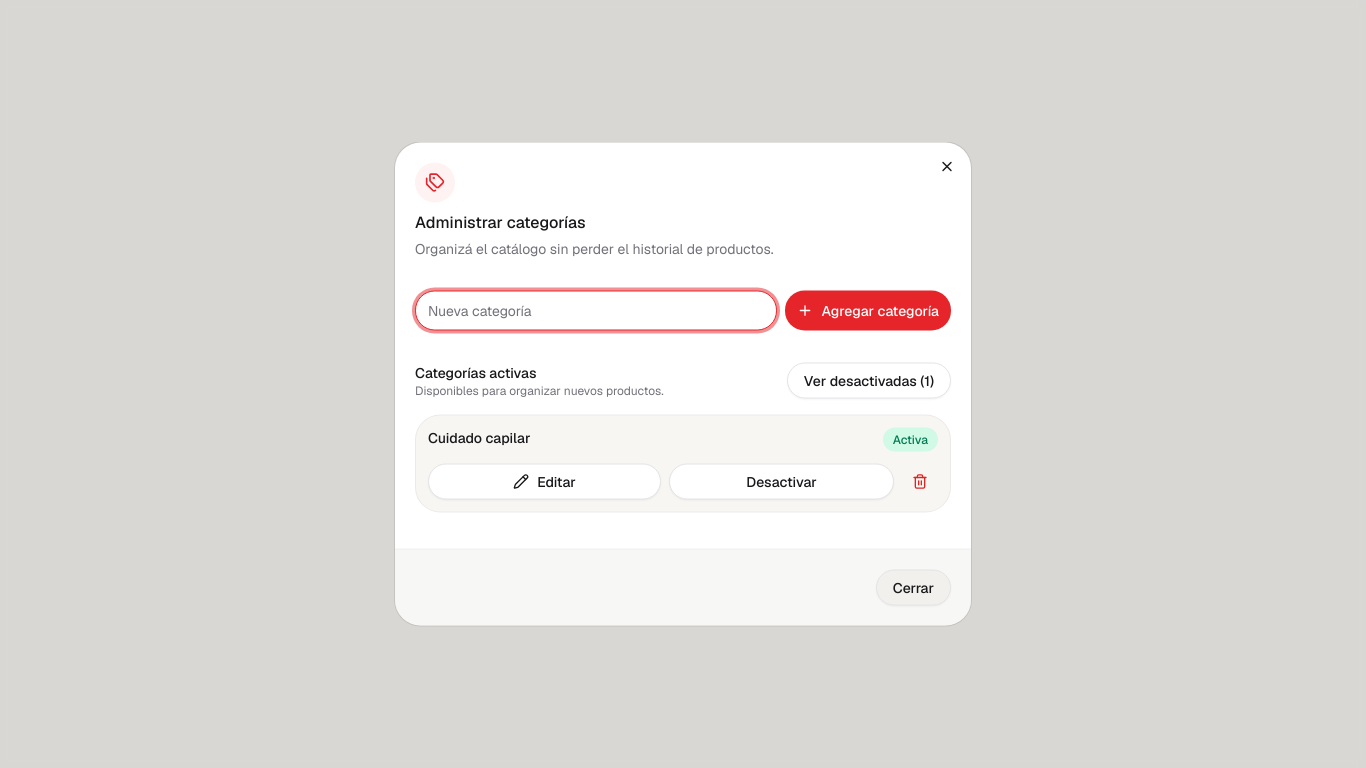
Test case: separates active categories and removes one only after confirmation
The width and height of the screenshot is (1366, 768).
What coordinates should you click on to do the following:
click the button "Ver desactivadas (1)"
I would click on:
 (869, 380)
Its box is [787,362,951,398].
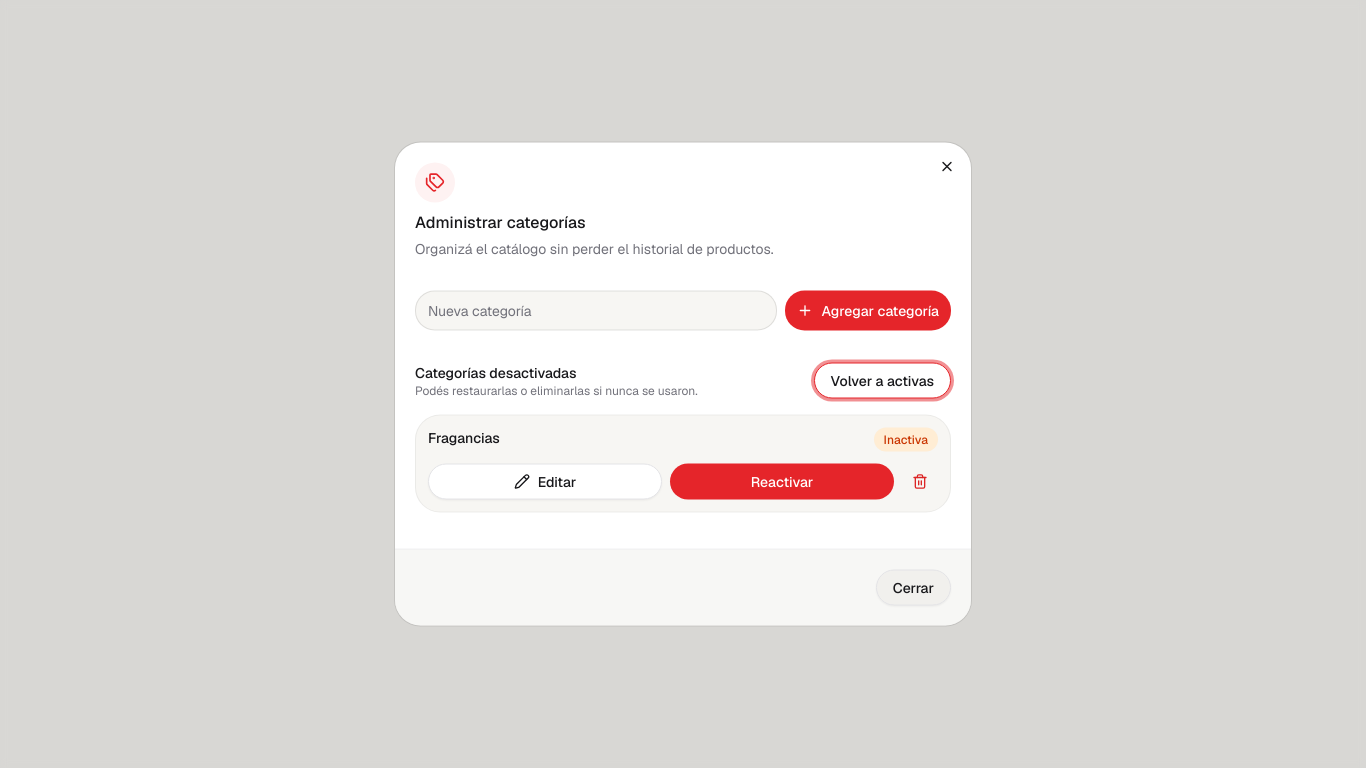
What coordinates should you click on to do the following:
click the button named "Eliminar Fragancias"
I would click on:
 (920, 482)
Its box is [902,464,938,500].
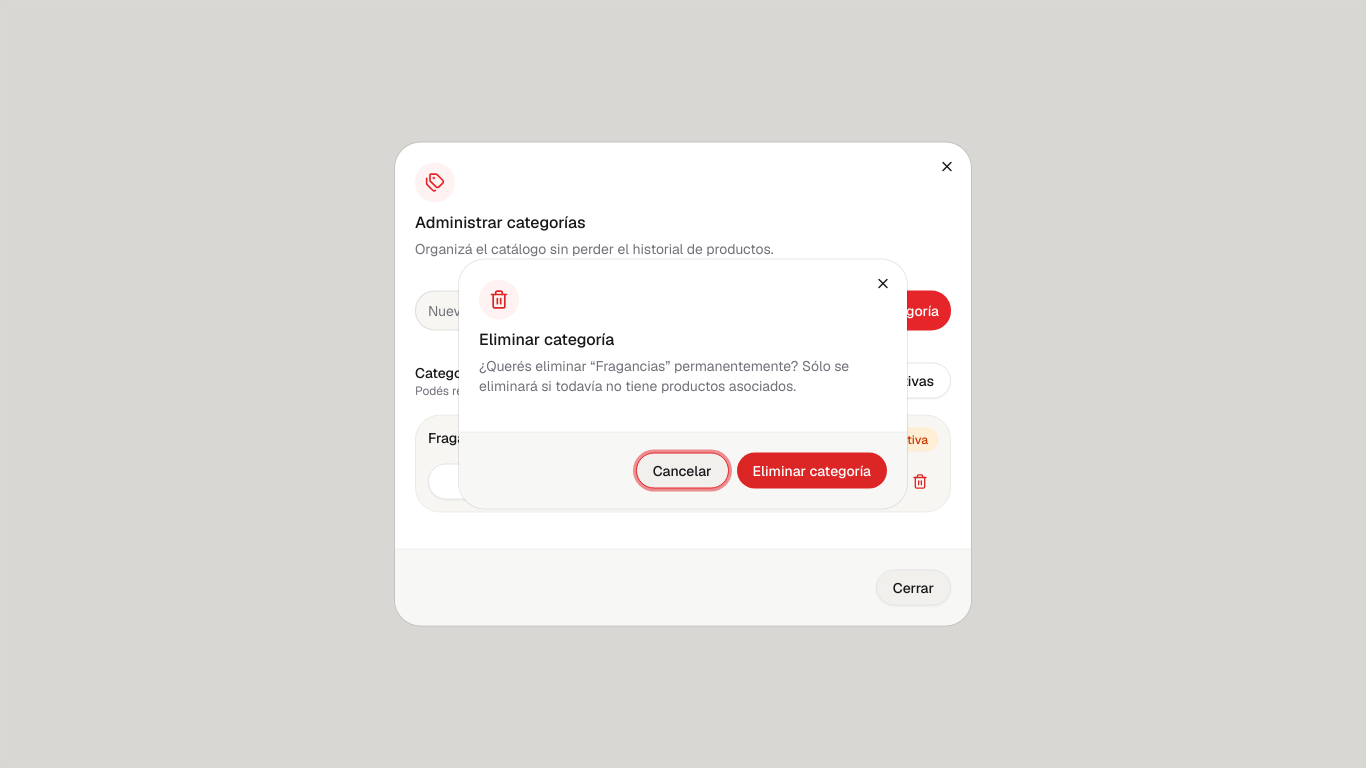
What coordinates should you click on to do the following:
click the button "Eliminar categoría"
I would click on:
 (812, 470)
Its box is [737,452,887,488].
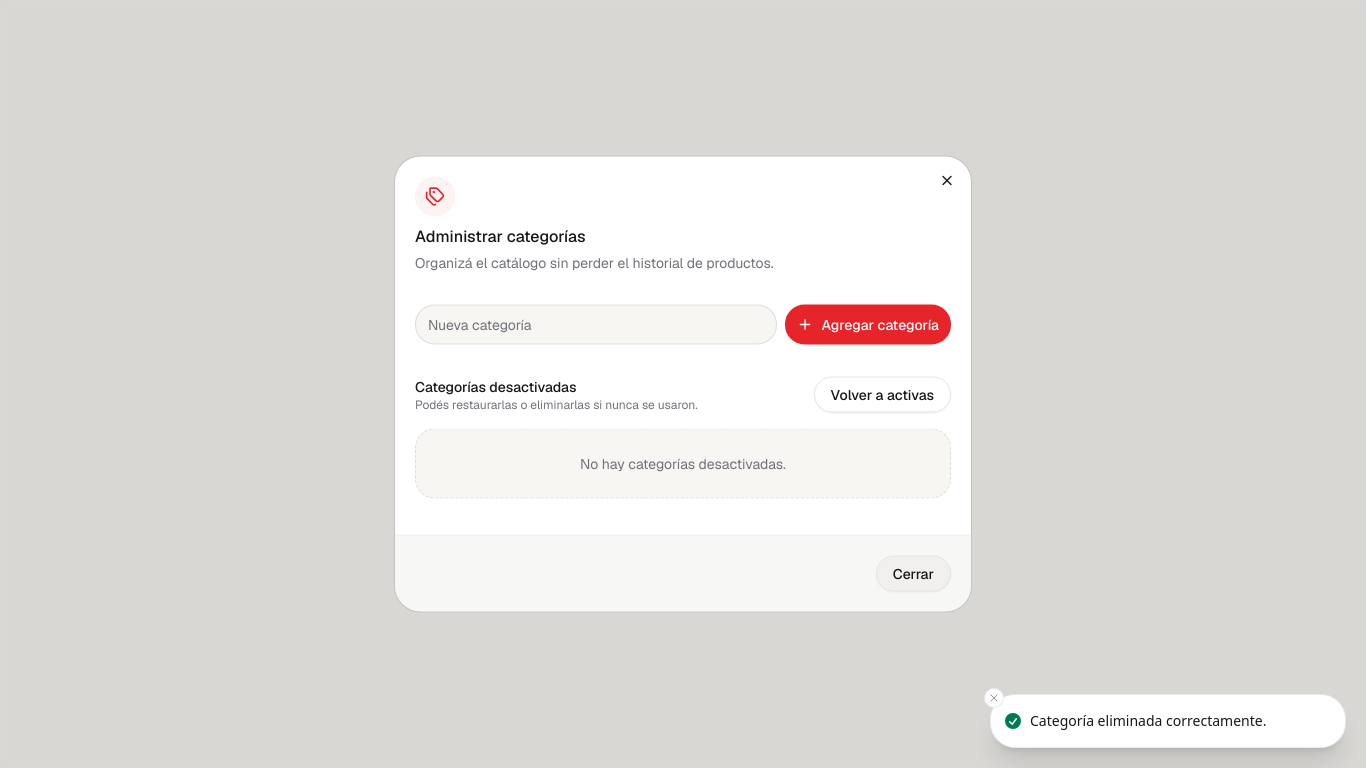
Check: the text "Categoría eliminada correctamente." is shown, box [1030,711,1266,731]
